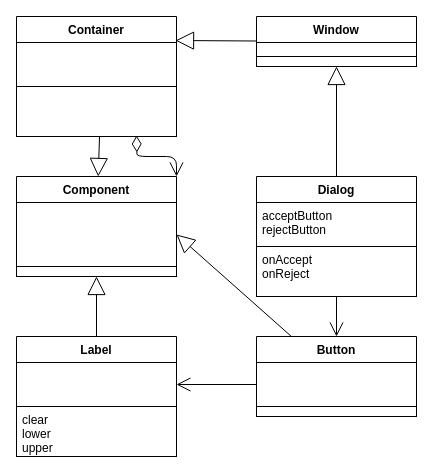
The diagram is 433 pixels wide and 473 high, and some of its shapes have lost their labels. The centre of each missing label's shape, as x and y in pixels:
addChildren: (96,111)
children: (96,64)
label padding: (336,384)
text: (96,384)
x y width height: (96,234)
